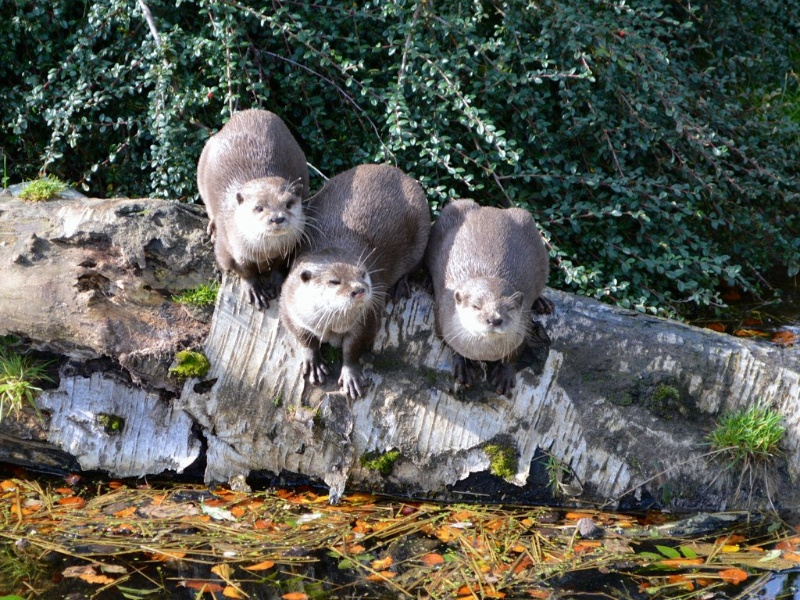minkish: (281, 155, 440, 401), (436, 195, 559, 401), (187, 102, 307, 309)
